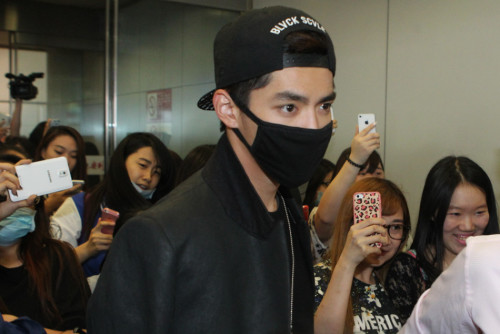face: (444, 186, 487, 250), (361, 213, 403, 267), (129, 149, 162, 195), (47, 135, 80, 176)
face_mask: (253, 66, 337, 182)
